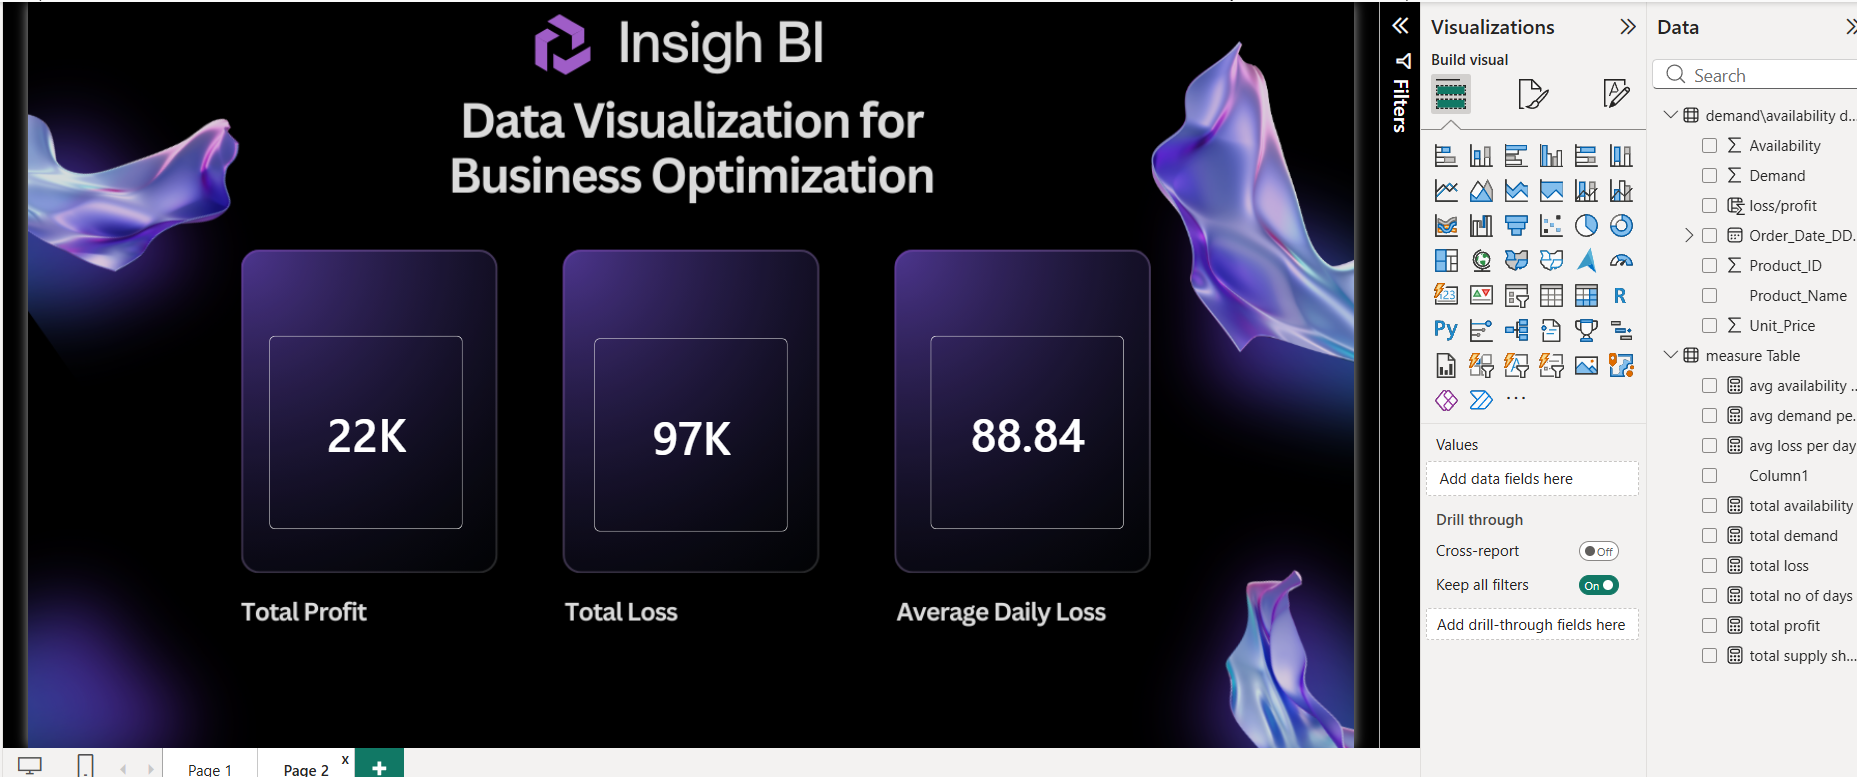

The dashboard page shown, as its layout file describes it:
{"tool":"powerbi","page":{"name":"Page 2","canvas":[1920,1080],"ordinal":1},"visuals":[{"type":"cardVisual","fields":{"Data":["measure Table.total profit"]},"box":[350,484,280,280],"z":0},{"type":"cardVisual","fields":{"Data":["measure Table.total loss"]},"box":[819.8,487.1,280,280],"z":1},{"type":"cardVisual","fields":{"Data":["measure Table.avg loss per day"]},"box":[1306.9,483.2,280,280],"z":2}]}

Visuals, with their boxes on the page's 1920x1080 design canvas (x1, y1, x2, y2). These are canvas units, not pixel positions in the 1857x777 screenshot, which may show the page scaled, cropped or inside an application window:
cardVisual - measure Table.total profit: region(350, 484, 630, 764)
cardVisual - measure Table.total loss: region(820, 487, 1100, 767)
cardVisual - measure Table.avg loss per day: region(1307, 483, 1587, 763)
